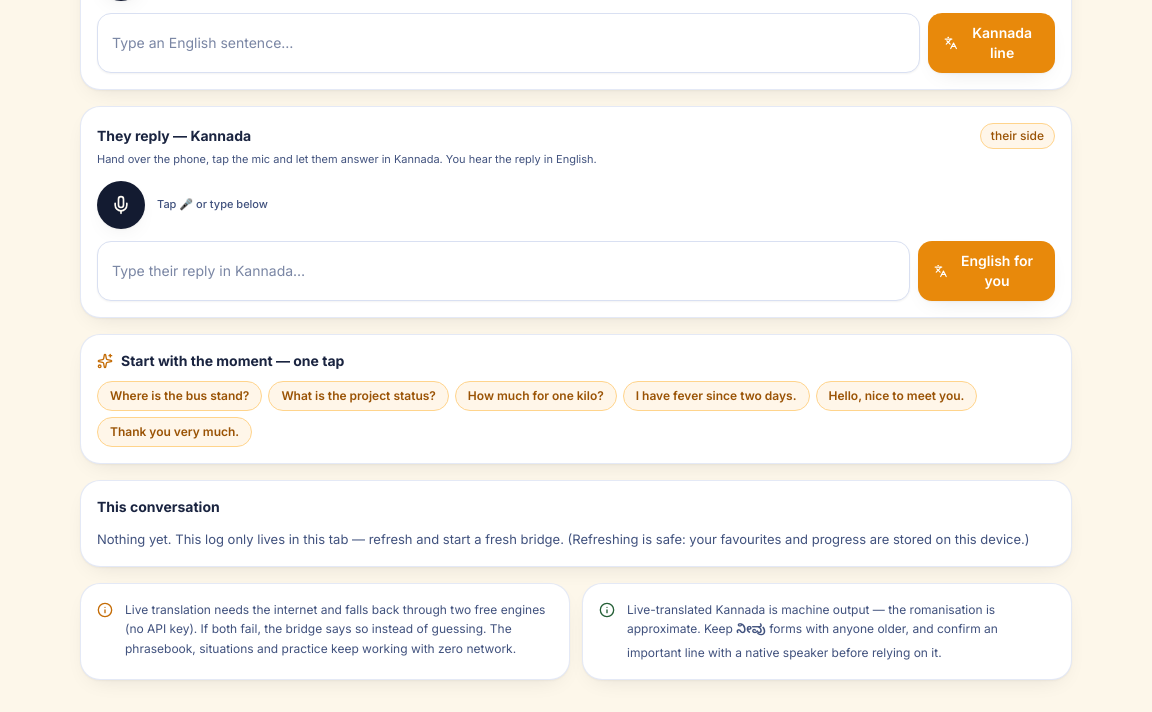
Scenario: BridgePage › keeps the typed box working when translation is offline
(page scrolled)
Step 1. Click the button "Where is the bus stand?" → (180, 396), box [97, 380, 262, 410]
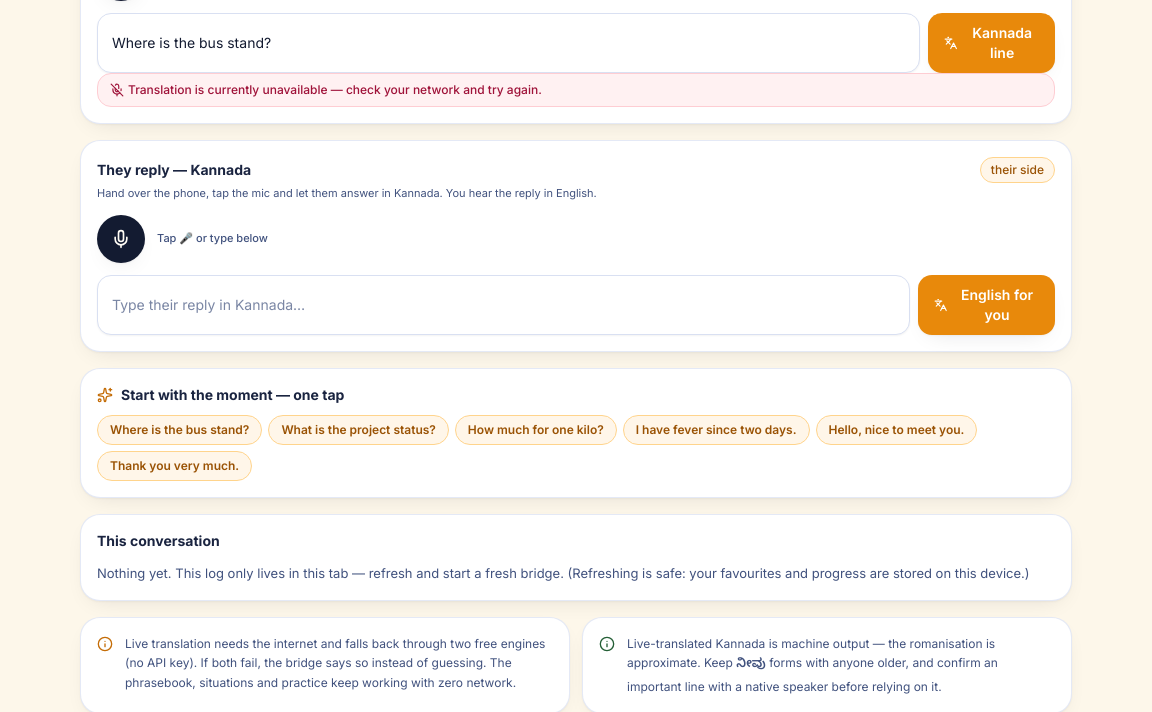
Check: the text "Translation is currently unavailable — check your network and try again." is shown, box [97, 73, 1055, 107]
Check: the field with placeholder "Type an English sentence…" holds "Where is the bus stand?", box [97, 13, 920, 73]
